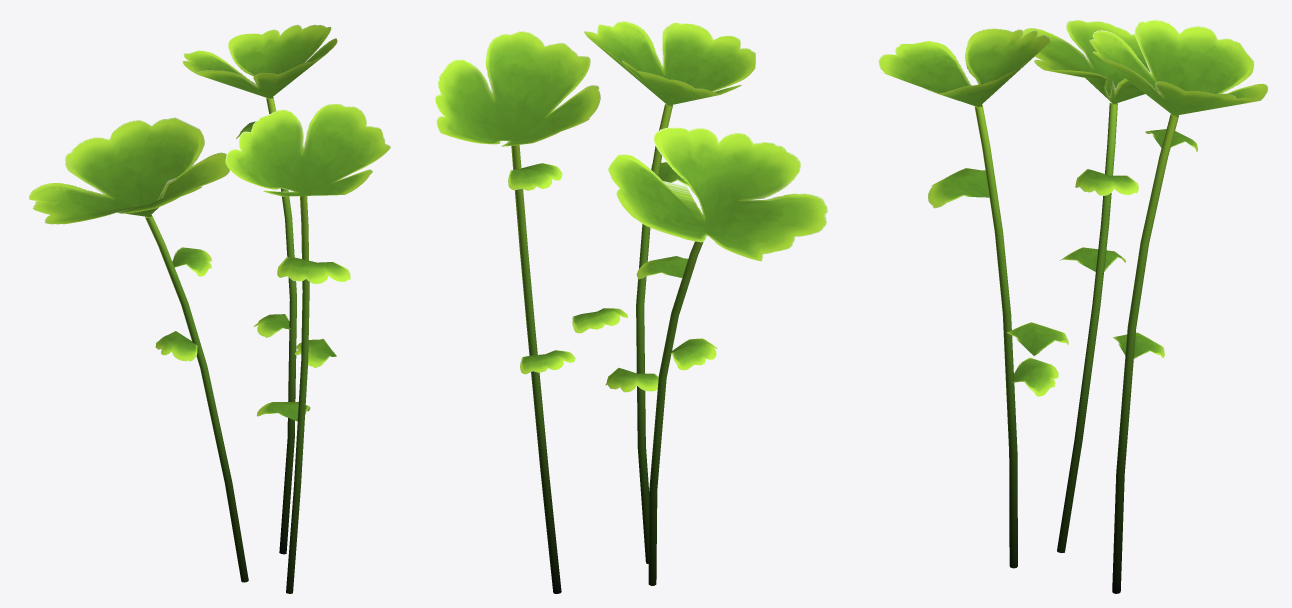
The model's file is Clover_1.glb.
The picture shows the model from 3 angles, left to right: view 1: azimuth 30°, elevation 25°; view 2: azimuth 150°, elevation 25°; view 3: azimuth 270°, elevation 25°; orthographic projection. The views are drawn at different scales.
Visible parts, largest first — view 1: Clover_1; view 2: Clover_1; view 3: Clover_1.
Part boxes in pixels (box(x1,y1,x2,y2)): Clover_1: box(28, 24, 390, 593); Clover_1: box(435, 21, 827, 593); Clover_1: box(878, 19, 1267, 593).
Bounding box in the file's own units: 0.7963 × 1.14 × 0.7639.
Materials: 1 (1 with a texture image).
